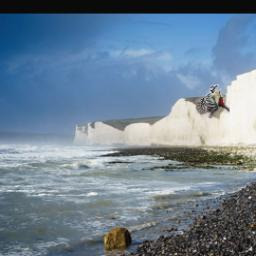Woodpecker: (196, 85, 230, 119)
